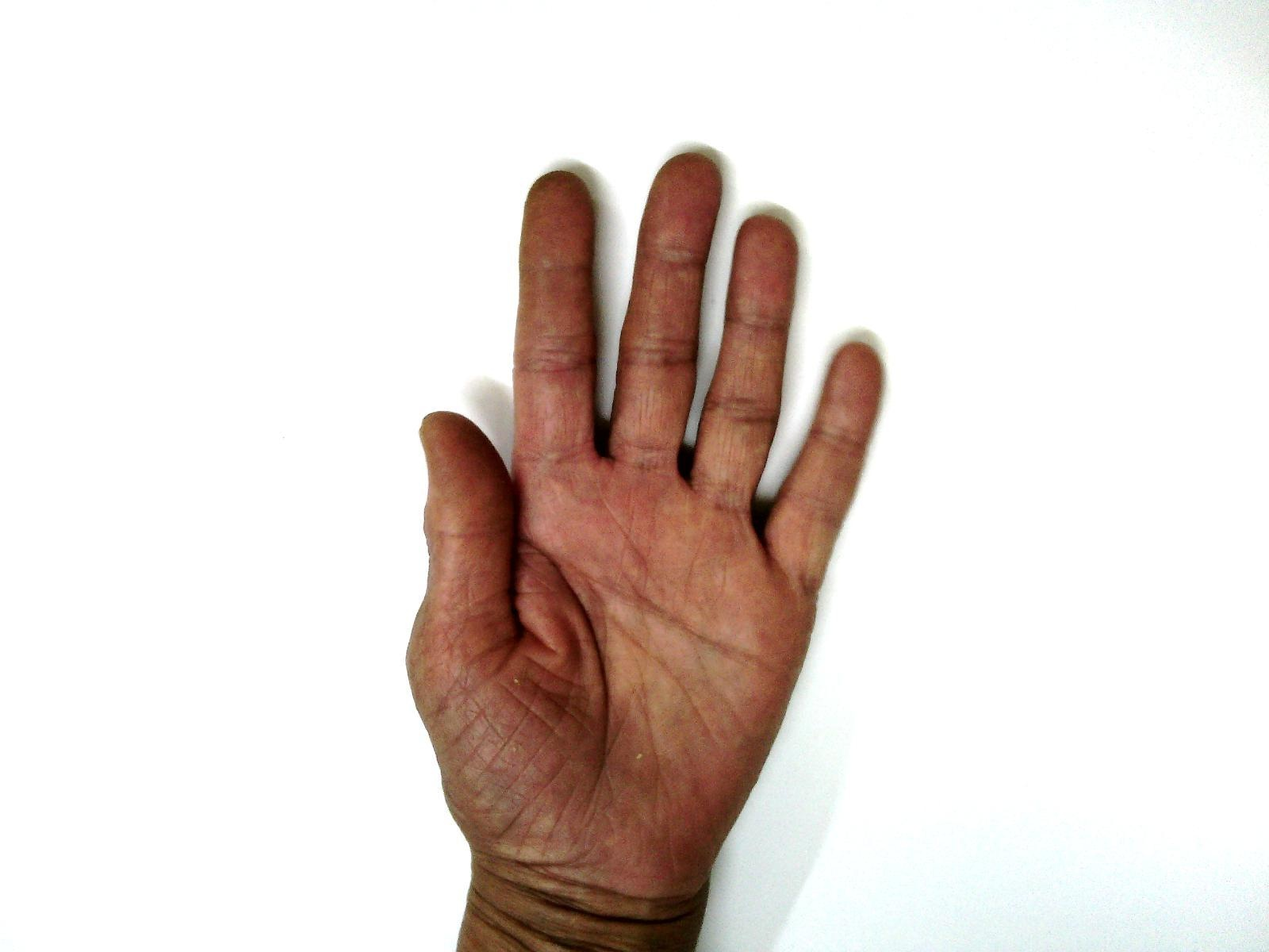open_palm: (404, 150, 889, 904)
